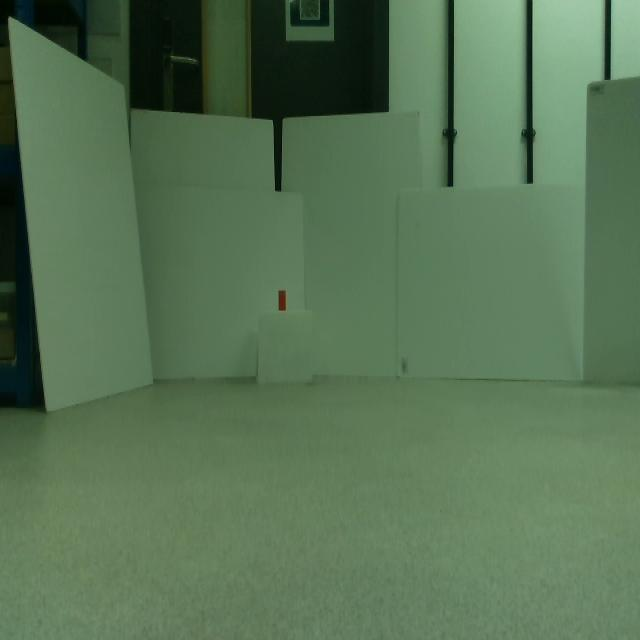red_cylinder: (278, 290, 286, 311)
